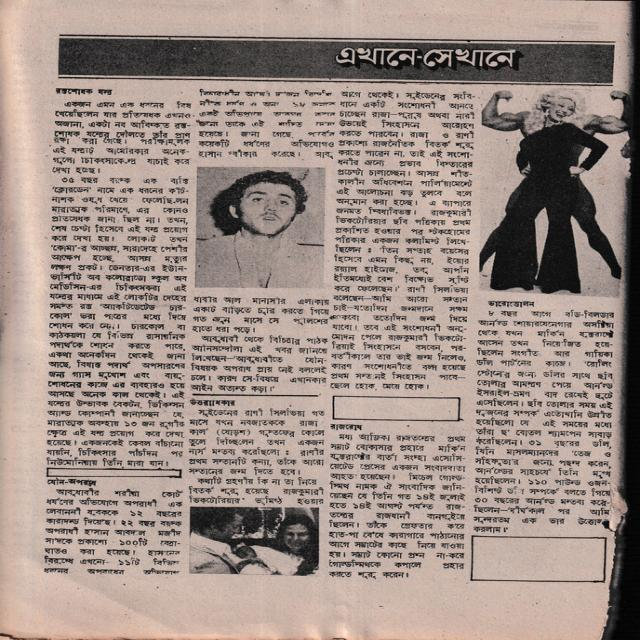image: (478, 87, 632, 299), (194, 166, 327, 289), (188, 506, 320, 578)
paragraph: (329, 90, 476, 392), (43, 175, 191, 468), (472, 308, 618, 534), (327, 432, 467, 580), (42, 488, 184, 576), (51, 100, 192, 175), (194, 88, 337, 160), (187, 407, 326, 476), (189, 334, 329, 394), (191, 295, 331, 335), (187, 476, 325, 506), (46, 477, 98, 487)
title: (329, 45, 526, 73), (54, 87, 114, 96), (188, 397, 236, 407), (487, 300, 536, 308), (329, 423, 363, 431)
